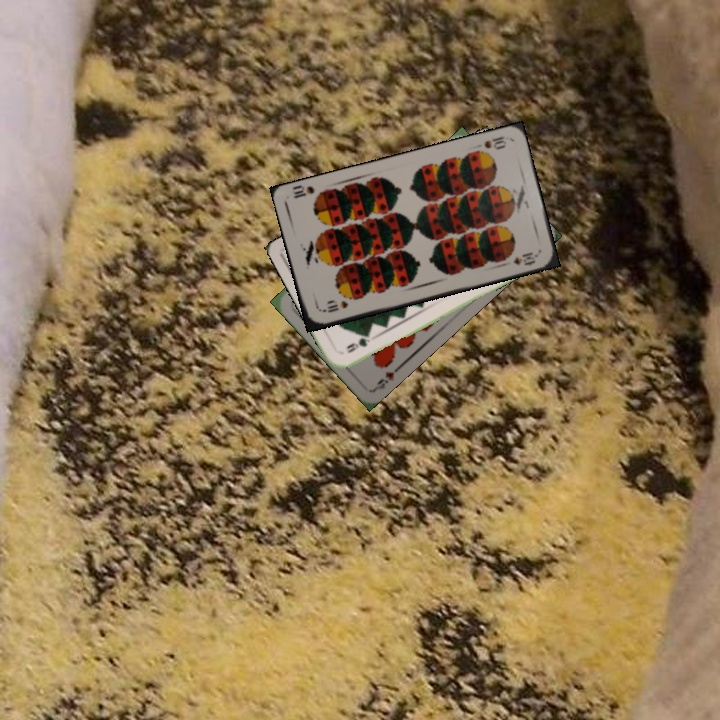G9: (342, 330, 373, 356)
H9: (370, 361, 404, 393)
S10: (318, 297, 351, 315), (480, 132, 509, 152)
